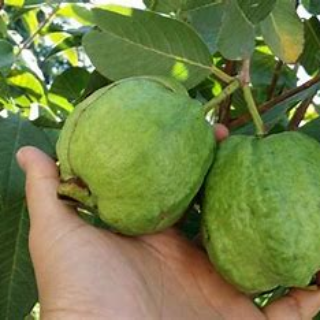oi: (47, 75, 215, 242), (207, 130, 320, 295)
